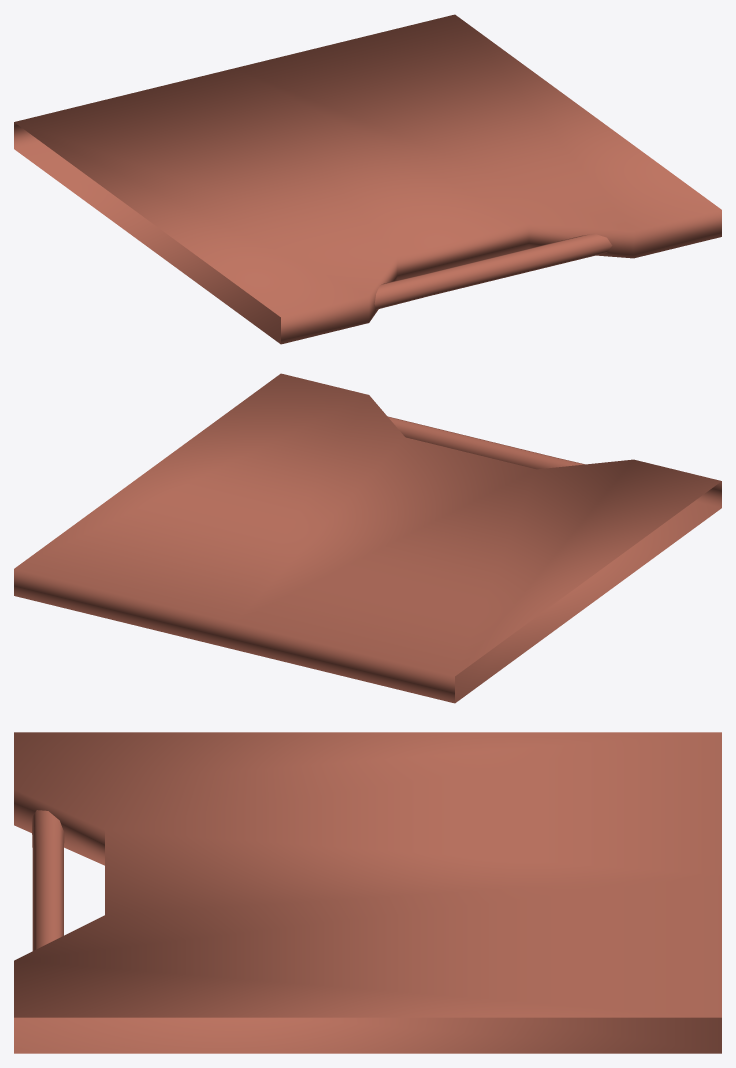
File: SM_environment_bridge_up_mar30.fbx
The picture shows the model from 3 angles, top to bottom: view 1: azimuth 30°, elevation 25°; view 2: azimuth 150°, elevation 25°; view 3: azimuth 270°, elevation 25°; orthographic projection. The views are drawn at different scales.
Parts seen in each view (by area): view 1: SM_environment_bridge_01; view 2: SM_environment_bridge_01; view 3: SM_environment_bridge_01.
Part boxes in pixels (x1,y1,x2,y2): SM_environment_bridge_01: (14, 14, 721, 344); SM_environment_bridge_01: (14, 373, 721, 703); SM_environment_bridge_01: (14, 732, 721, 1053).
Size of the model in its own units: 1330 by 78.73 by 1395.
